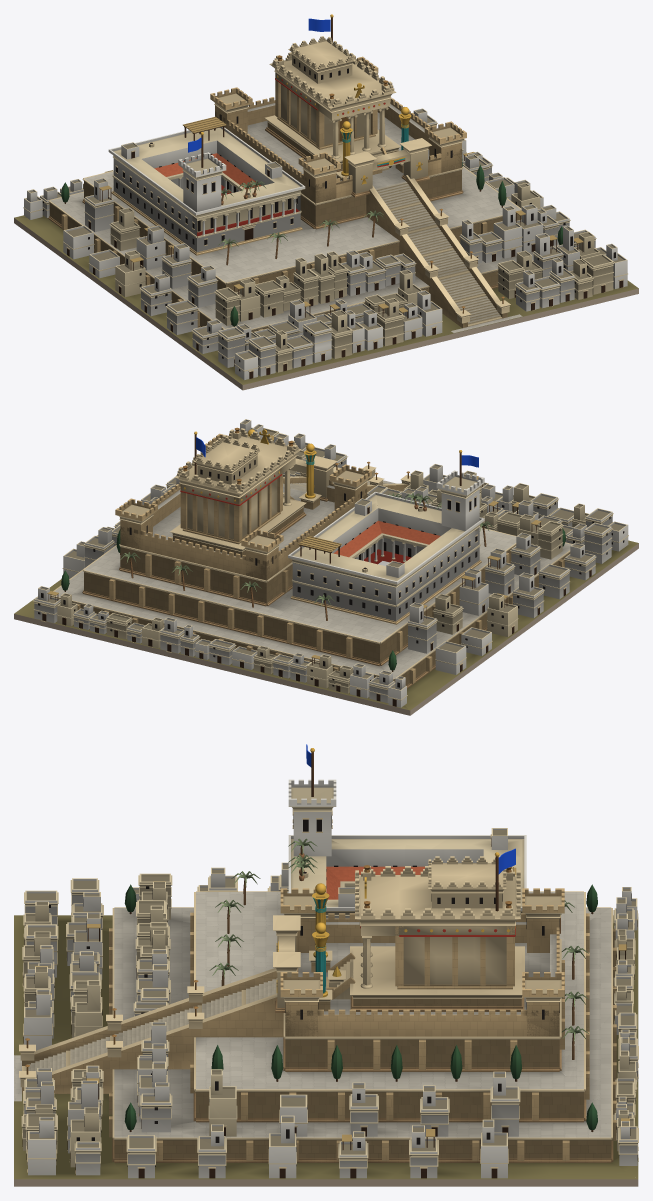
The model's file is lm_byrsa.glb.
3 renders of one model, top to bottom at view 1: azimuth 30°, elevation 25°; view 2: azimuth 150°, elevation 25°; view 3: azimuth 270°, elevation 25°, orthographic. The views are drawn at different scales.
Visible parts, largest first — view 1: lm_byrsa; view 2: lm_byrsa; view 3: lm_byrsa.
Part boxes in pixels (box(x1,y1,x2,y2)): lm_byrsa: box(14, 14, 638, 390); lm_byrsa: box(14, 419, 638, 715); lm_byrsa: box(14, 744, 638, 1186).
Bounding box in the file's own units: 2.3 × 1.01 × 2.3.
1 material, 1 textured.
